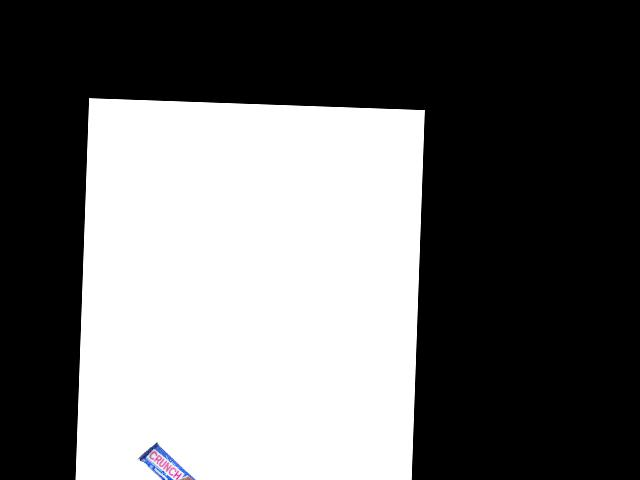chocolate: (135, 441, 203, 480)
